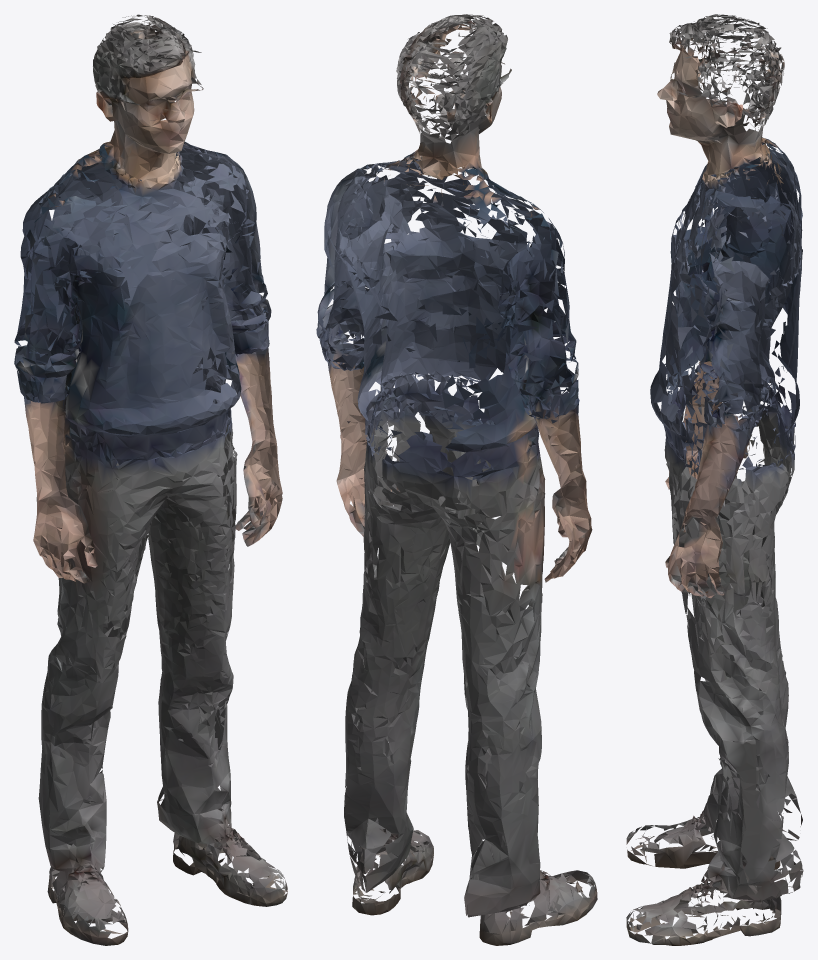
Rendered from pichai.glb.
3 renders of one model, left to right at view 1: azimuth 30°, elevation 25°; view 2: azimuth 150°, elevation 25°; view 3: azimuth 270°, elevation 25°, orthographic. The views are drawn at different scales.
Size of the model in its own units: 0.5218 by 1.75 by 0.3207.
